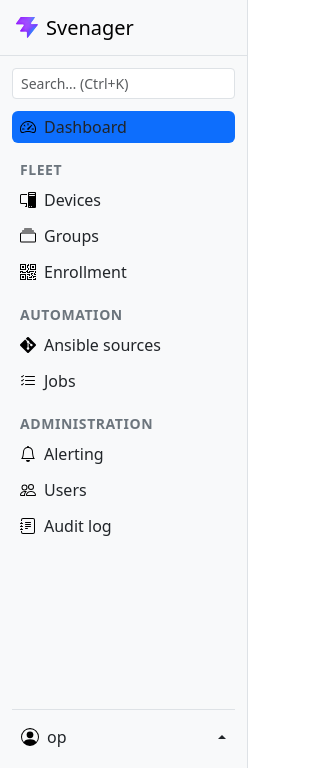
Test: sidebar navigation › explains and toggles expert details from the account menu
Step 1. Click the button "op" → click(124, 737), box [12,718,235,756]
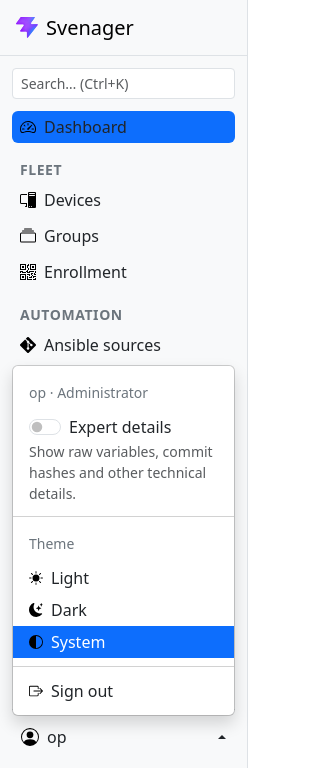
Result: the text "Show raw variables, commit hashes" is shown at [29,442,213,503]
Step 2. Click the checkbox labelled "Expert details" → click(45, 427), box [29,419,61,435]
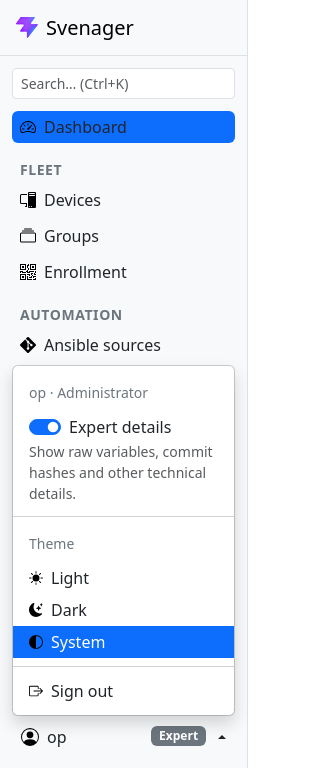
Result: the text "Expert" is shown at [151,726,206,746]
